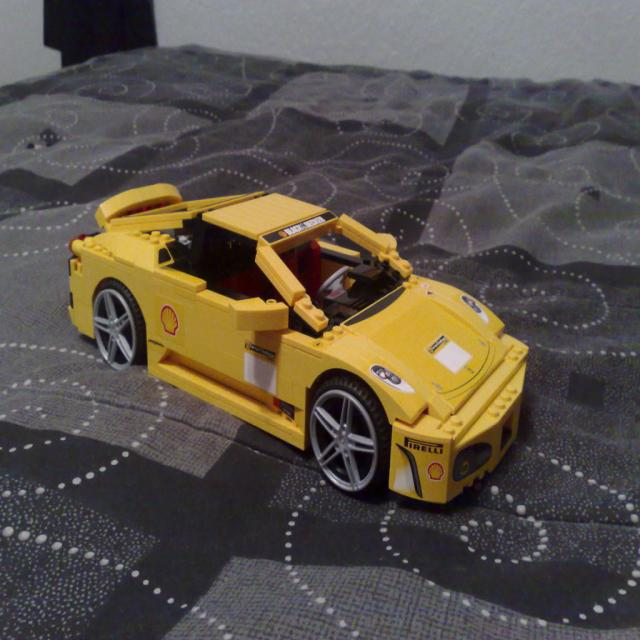Toy: (68, 183, 529, 504)
